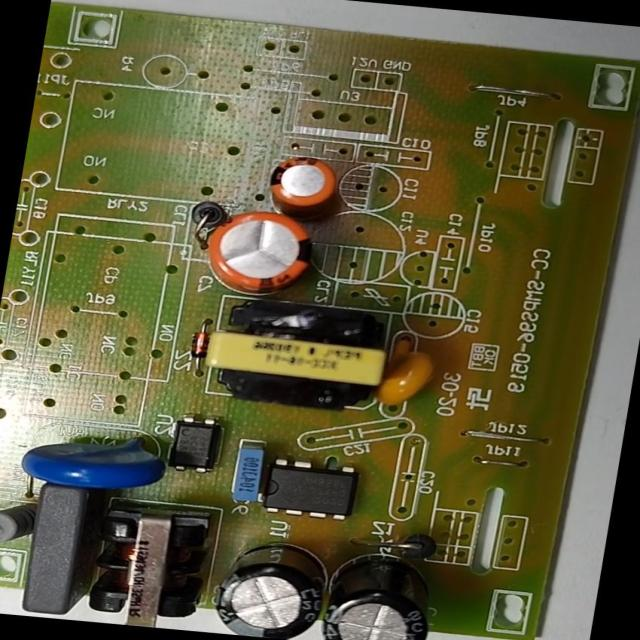Cap1: (184, 197, 336, 303)
Cap2: (258, 147, 355, 225)
Cap3: (206, 530, 346, 639)
Cap4: (310, 532, 450, 640)
MOSFET: (252, 451, 371, 522)
Mov: (11, 423, 180, 502)
Resistor: (0, 492, 50, 556)
Transformer: (195, 297, 408, 418), (80, 498, 219, 631)
